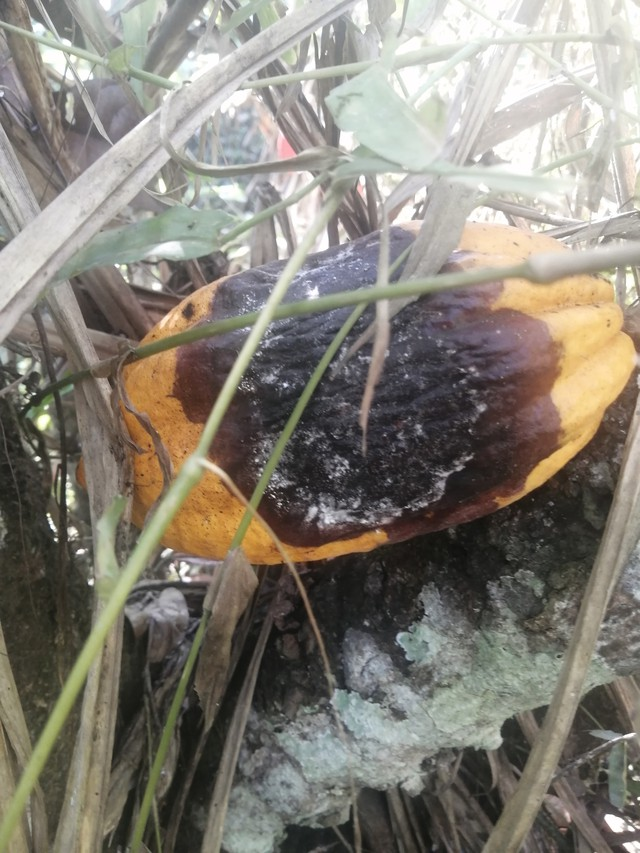moniliophthora roreri: (62, 203, 640, 579)
